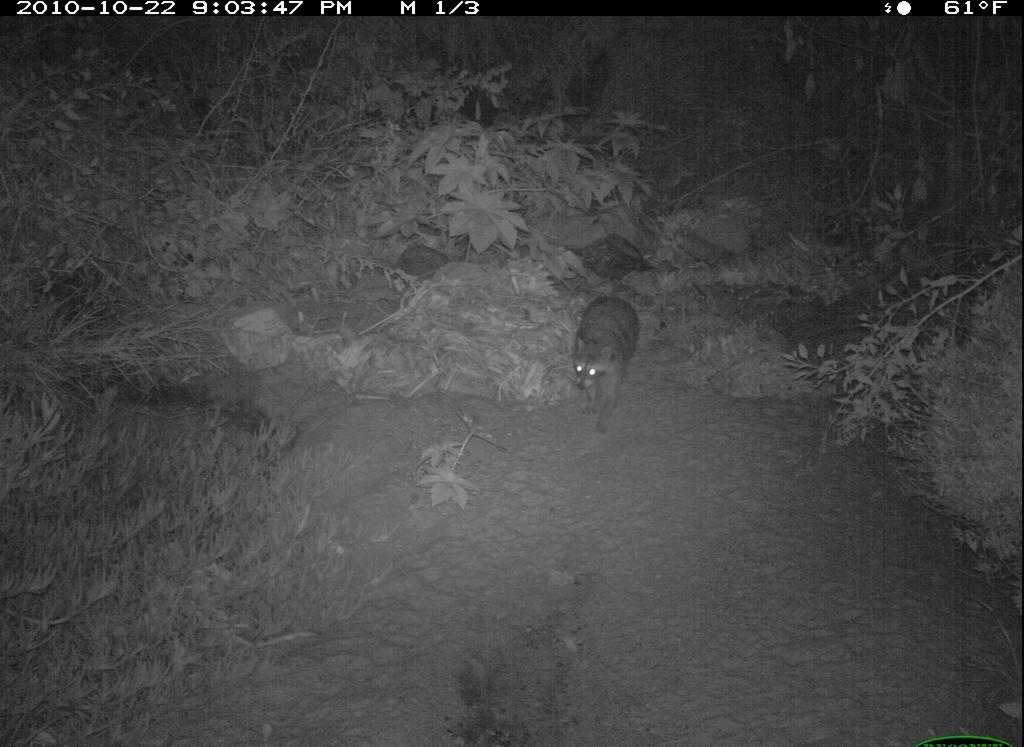raccoon: (557, 281, 662, 459)
